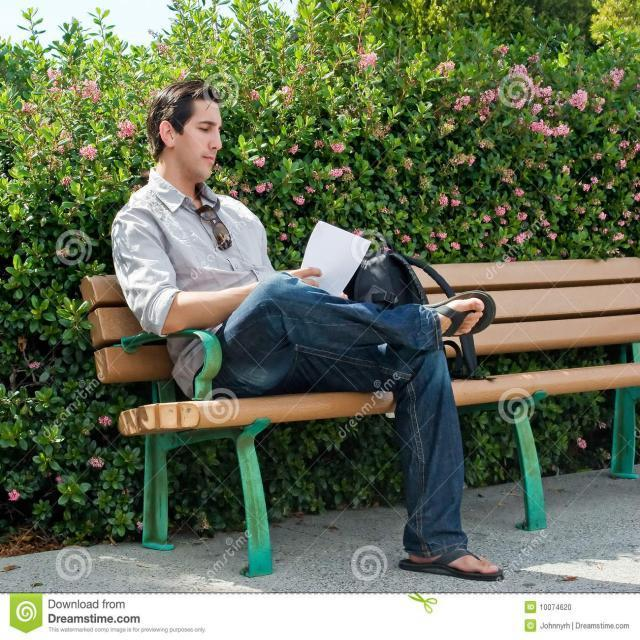sitting: (97, 62, 516, 593)
